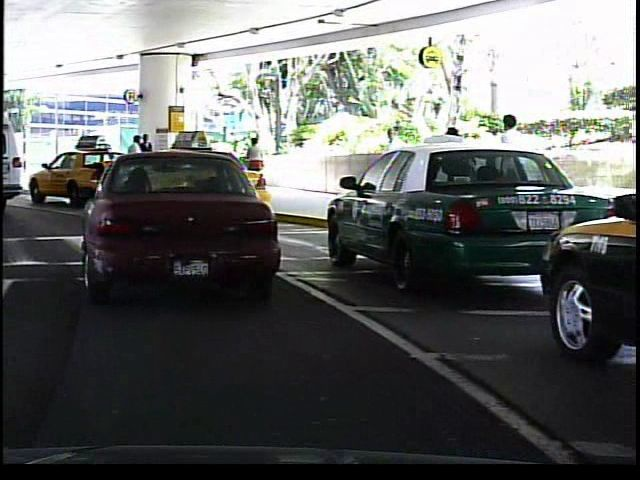person: (489, 109, 536, 230), (430, 116, 478, 225), (375, 119, 409, 203), (244, 134, 267, 192), (124, 133, 145, 189), (139, 129, 157, 187)
